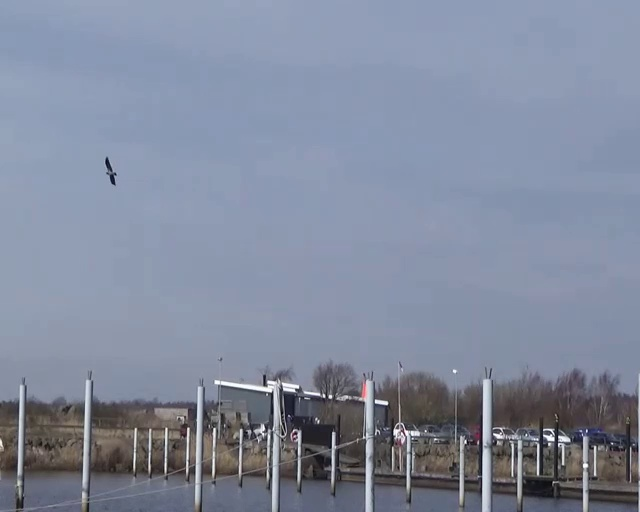BIRD: (104, 156, 118, 186)
